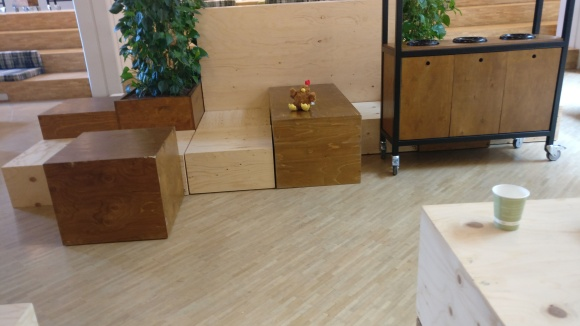chicken: (287, 79, 317, 111)
cup: (489, 182, 529, 237)
